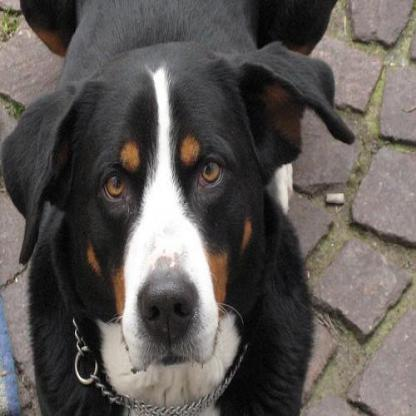Appenzeller: (0, 0, 354, 414)
